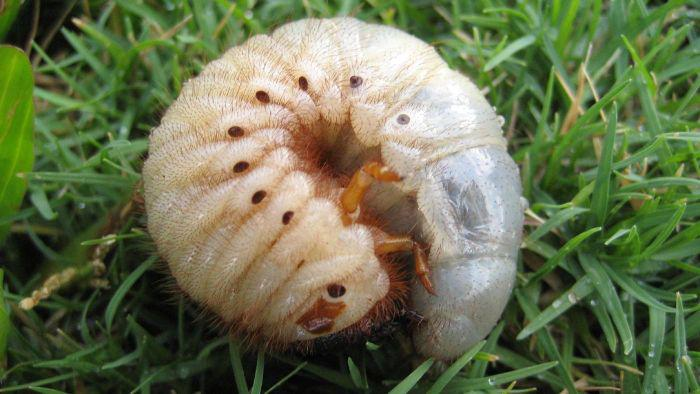grub: (138, 15, 526, 364)
